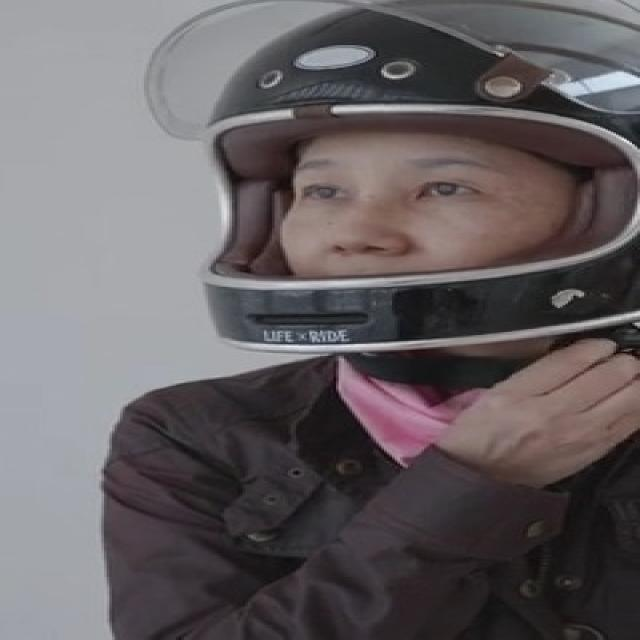Helmet_Wearer: (146, 3, 640, 360)
Person: (92, 0, 640, 640)
